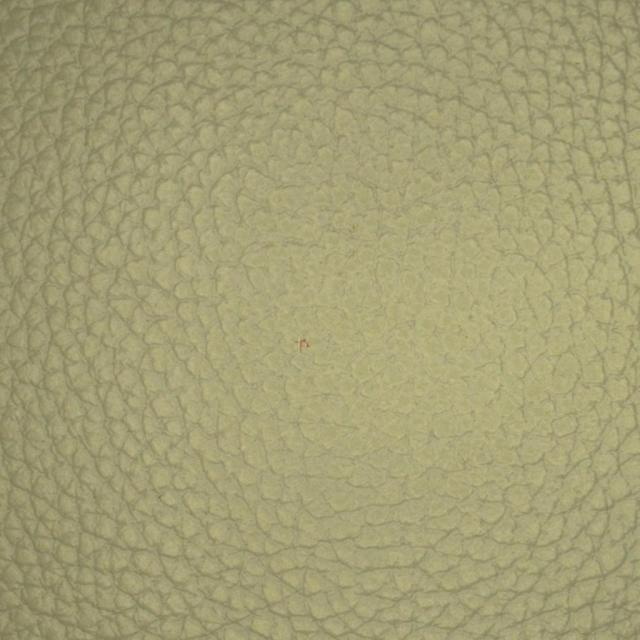pinhole: (237, 263, 371, 417)
